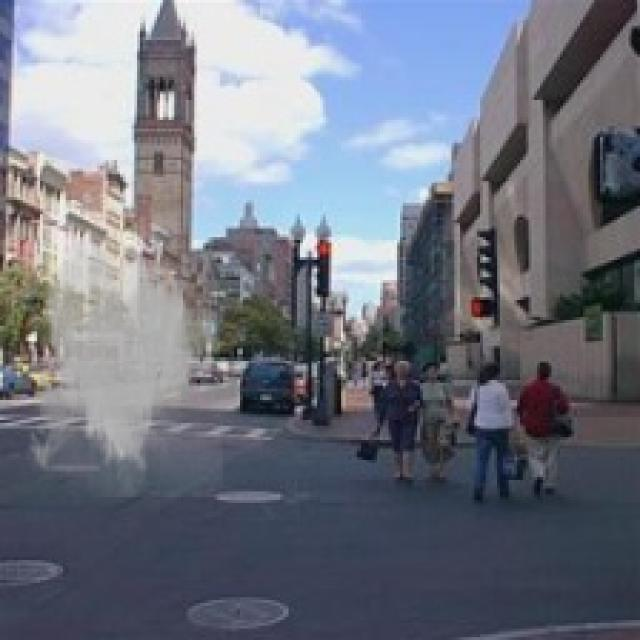Smoke: (23, 232, 223, 497)
